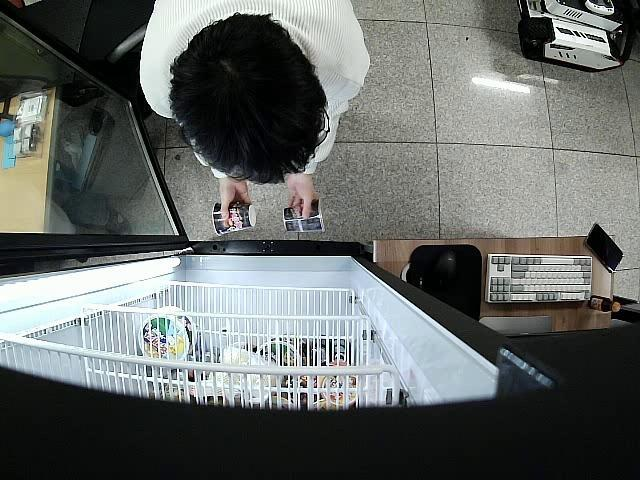08_buldak_S: (281, 198, 328, 236), (212, 201, 258, 235)
